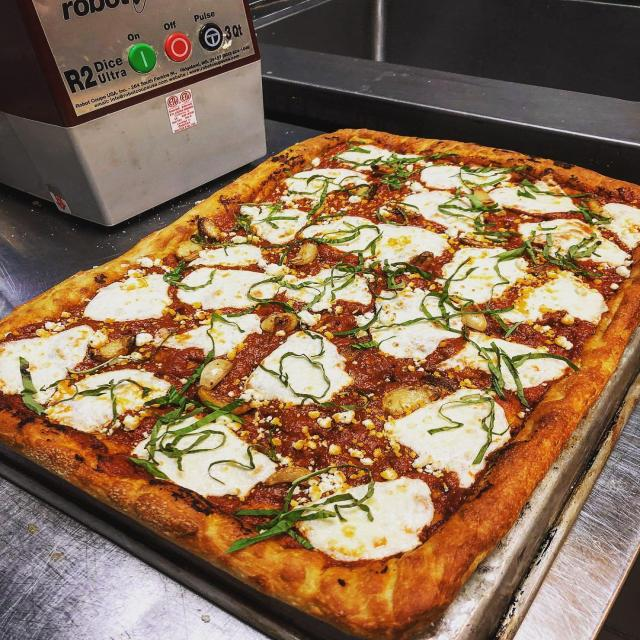basil: (228, 466, 374, 552), (147, 401, 237, 456), (426, 394, 508, 441), (130, 410, 180, 479), (481, 342, 530, 400), (145, 371, 200, 409), (438, 256, 482, 303), (519, 220, 564, 265), (371, 153, 424, 190), (419, 294, 456, 343), (19, 356, 45, 415), (253, 302, 300, 334), (381, 262, 430, 290), (72, 355, 131, 375), (437, 195, 486, 219), (459, 168, 511, 190), (178, 268, 216, 298), (562, 234, 602, 262), (336, 312, 376, 340), (448, 231, 506, 248), (89, 380, 122, 402), (378, 201, 408, 225), (505, 185, 550, 200), (578, 206, 611, 226), (328, 238, 375, 252), (492, 314, 520, 336), (309, 185, 325, 216), (222, 235, 262, 244), (352, 340, 379, 349), (417, 255, 431, 264), (524, 320, 534, 325), (194, 236, 200, 240), (461, 315, 466, 319)
pizza: (0, 130, 639, 640)
